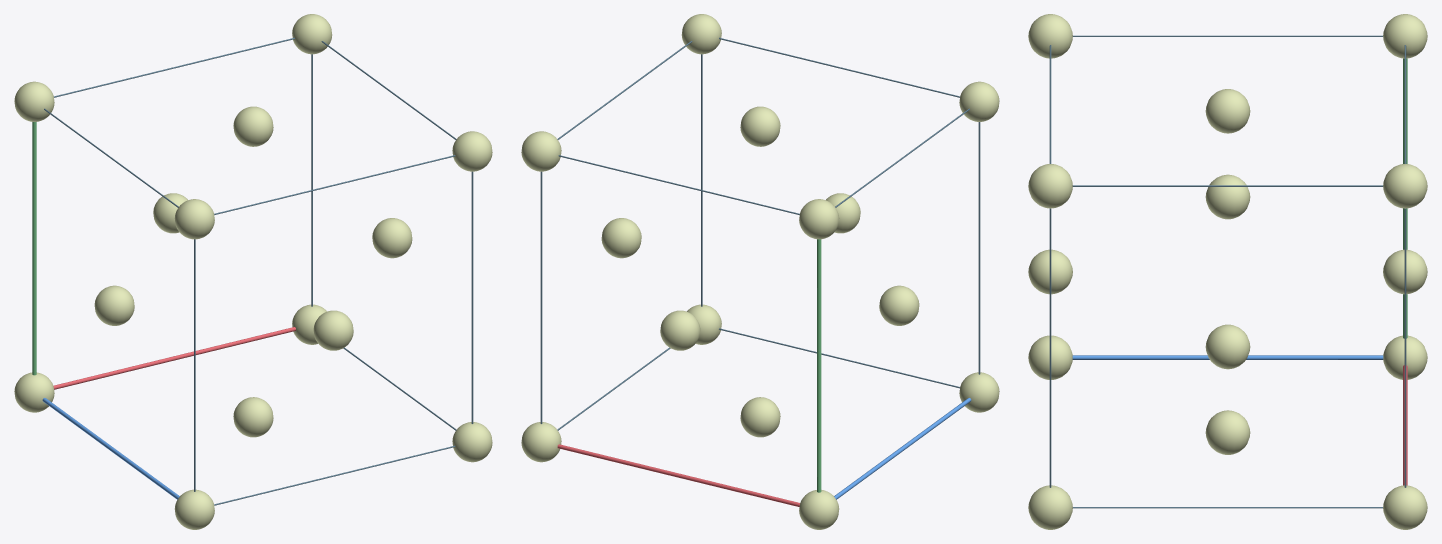
The model's file is nguyen-to-th.glb.
The picture shows the model from 3 angles, left to right: view 1: azimuth 30°, elevation 25°; view 2: azimuth 150°, elevation 25°; view 3: azimuth 270°, elevation 25°; orthographic projection. The views are drawn at different scales.
Visible parts, largest first — view 1: Th · Th · 1 (×14), Ô mạng và các trục a, b, c; view 2: Th · Th · 1 (×14), Ô mạng và các trục a, b, c; view 3: Th · Th · 1 (×14), Ô mạng và các trục a, b, c.
Part boxes in pixels (left/top/right/bottom): Th · Th · 1 (×14): left=14, top=14, right=492, bottom=529; Ô mạng và các trục a, b, c: left=32, top=37, right=473, bottom=505; Th · Th · 1 (×14): left=521, top=14, right=999, bottom=529; Ô mạng và các trục a, b, c: left=540, top=37, right=980, bottom=506; Th · Th · 1 (×14): left=1028, top=14, right=1427, bottom=529; Ô mạng và các trục a, b, c: left=1049, top=35, right=1407, bottom=508.
Bounding box in the file's own units: 5.72 × 5.72 × 5.72.
